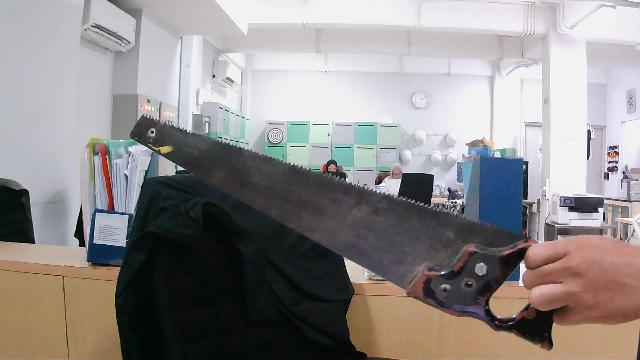gergaji_kayu: (125, 99, 566, 354)
